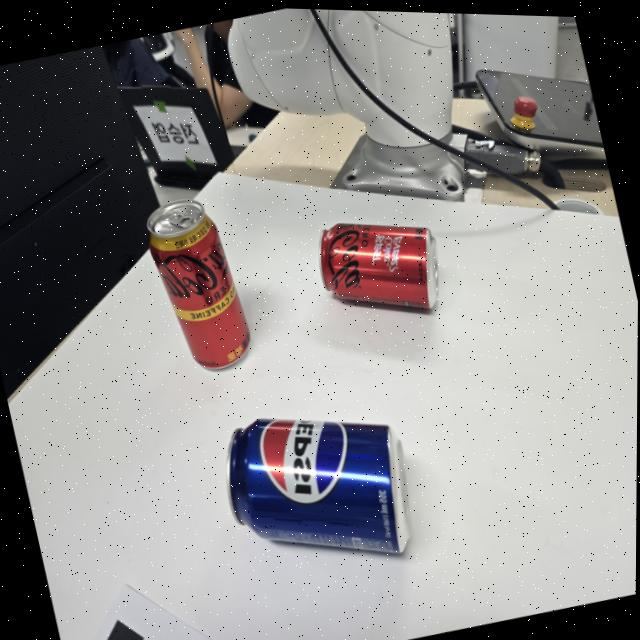can_coke_decaf: (147, 198, 251, 371)
can_coke_zero: (318, 224, 442, 310)
can_pepsi: (223, 418, 415, 554)
